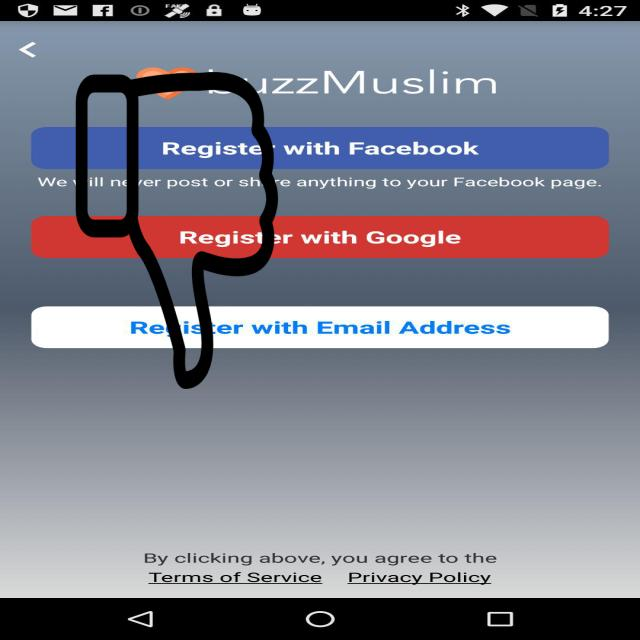obstruction: (73, 72, 281, 389)
